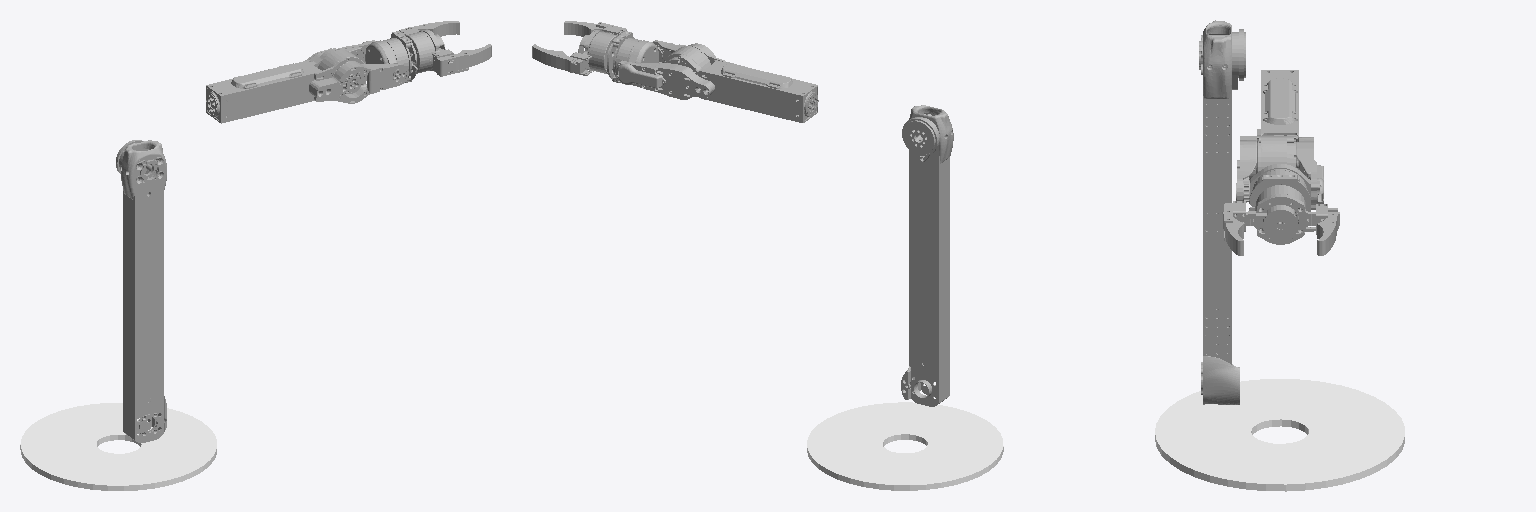
robot.urdf — arm_description:
<?xml version="1.0" encoding="utf-8"?>
<!-- This URDF was automatically created by SolidWorks to URDF Exporter! Originally created by [author] ([email redacted]) 
     Commit Version: 1.6.0-4-g7f85cfe  Build Version: 1.6.7995.38578
     For more information, please see http://wiki.ros.org/sw_urdf_exporter -->
<robot
  name="arm_description">
  <link
    name="base_link">
    <visual>
      <origin
        xyz="0 0 0"
        rpy="0 0 0" />
      <geometry>
        <mesh
          filename="package://arm_description/meshes/base_link.STL" />
      </geometry>
      <material
        name="">
        <color
          rgba="1 1 1 1" />
      </material>
    </visual>
    <collision>
      <origin
        xyz="0 0 0"
        rpy="0 0 0" />
      <geometry>
        <mesh
          filename="package://arm_description/meshes/base_link.STL" />
      </geometry>
    </collision>
  </link>
  <link
    name="link_1">
    <inertial>
      <origin
        xyz="0.0 0.0 0.05919"
        rpy="0 0 0" />
      <mass
        value="0.536" />
      <inertia
        ixx="0.3052091"
        ixy="-0.02572"
        ixz="-0.1003921"
        iyy="0.3640608"
        iyz="0.0255497"
        izz="0.1179245" />
    </inertial>
    <visual>
      <origin
        xyz="0 0 0"
        rpy="0 0 0" />
      <geometry>
        <mesh
          filename="package://arm_description/meshes/link_1.STL" />
      </geometry>
      <material
        name="">
        <color
          rgba="0.75294 0.75294 0.75294 1" />
      </material>
    </visual>
    <collision>
      <origin
        xyz="0 0 0"
        rpy="0 0 0" />
      <geometry>
        <mesh
          filename="package://arm_description/meshes/link_1.STL" />
      </geometry>
    </collision>
  </link>
  <joint
    name="joint_1"
    type="revolute">
    <origin
      xyz="0 0 0"
      rpy="0 0 0" />
    <parent
      link="base_link" />
    <child
      link="link_1" />
    <axis
      xyz="0 0 1" />
    <limit
      lower="-3.1"
      upper="3.1"
      effort="25"
      velocity="7.75" />
    <dynamics
      friction="0.3" />
  </joint>
  <link
    name="link_2">
    <inertial>
      <origin
        xyz="-0.0014451 0.24112 -0.020056"
        rpy="0 0 0" />
      <mass
        value="0.292" />
      <inertia
        ixx="0.037649"
        ixy="0"
        ixz="1.3289E-05"
        iyy="0.036645"
        iyz="0"
        izz="0.0011637" />
    </inertial>
    <visual>
      <origin
        xyz="0 0 0"
        rpy="0 0 0" />
      <geometry>
        <mesh
          filename="package://arm_description/meshes/link_2.STL" />
      </geometry>
      <material
        name="">
        <color
          rgba="0.75294 0.75294 0.75294 1" />
      </material>
    </visual>
    <collision>
      <origin
        xyz="0 0 0"
        rpy="0 0 0" />
      <geometry>
        <mesh
          filename="package://arm_description/meshes/link_2.STL" />
      </geometry>
    </collision>  
  </link>
  <joint
    name="joint_2"
    type="revolute">
    <origin
      xyz="0 -0.042 0.071"
      rpy="1.5708 0 -3.1416" />
    <parent
      link="link_1" />
    <child
      link="link_2" />
    <axis
      xyz="0 0 -1" />
    <limit
      lower="-1.047"
      upper="1.396"
      effort="63"
      velocity="4.71" />
    <dynamics
      friction="0.2" />
  </joint>
  <link
    name="link_3">
    <inertial>
      <origin
        xyz="0.01602 0.044001 0.029936"
        rpy="0 0 0" />
      <mass
        value="1.321" />
      <inertia
        ixx="0.27702"
        ixy="0"
        ixz="0.02648"
        iyy="0.28195"
        iyz="0"
        izz="0.005747" />
    </inertial>
    <visual>
      <origin
        xyz="0 0 0"
        rpy="0 0 0" />
      <geometry>
        <mesh
          filename="package://arm_description/meshes/link_3.STL" />
      </geometry>
      <material
        name="">
        <color
          rgba="0.75294 0.75294 0.75294 1" />
      </material>
    </visual>
    <collision>
      <origin
        xyz="0 0 0"
        rpy="0 0 0" />
      <geometry>
        <mesh
          filename="package://arm_description/meshes/link_3.STL" />
      </geometry>
    </collision>
  </link>
  <joint
    name="joint_3"
    type="revolute">
    <origin
      xyz="0 0.37 0.007"
      rpy="0 0 1.5708" />
    <parent
      link="link_2" />
    <child
      link="link_3" />
    <axis
      xyz="0 0 -1" />
    <limit
      lower="-1.36217"
      upper="0.5335"
      effort="35"
      velocity="4.71" />
    <dynamics
      friction="0.2" />
  </joint>
  <link
    name="link_4">
    <inertial>
      <origin
        xyz="0.00010602 0.0016431 0.15301"
        rpy="0 0 0" />
      <mass
        value="0.71" />
      <inertia
        ixx="0.157756532"
        ixy="0"
        ixz="0.101150375"
        iyy="0.22536253"
        iyz="0"
        izz="0.06816" />
    </inertial>
    <visual>
      <origin
        xyz="0 0 0"
        rpy="0 0 0" />
      <geometry>
        <mesh
          filename="package://arm_description/meshes/link_4.STL" />
      </geometry>
      <material
        name="">
        <color
          rgba="0.75294 0.75294 0.75294 1" />
      </material>
    </visual>
    <collision>
      <origin
        xyz="0 0 0"
        rpy="0 0 0" />
      <geometry>
        <mesh
          filename="package://arm_description/meshes/link_4.STL" />
      </geometry>
    </collision>
  </link>
  <joint
    name="joint_4"
    type="revolute">
    <origin
      xyz="0.03 0.1419 0.035"
      rpy="-1.5708 0 0" />
    <parent
      link="link_3" />
    <child
      link="link_4" />
    <axis
      xyz="0 0 1" />
    <limit
      lower="-3.14"
      upper="3.14"
      effort="18"
      velocity="7.54" />
    <dynamics
      friction="0.2" />
  </joint>
  <link
    name="link_5">
    <inertial>
      <origin
        xyz="5.5375E-07 0.0083726 -0.0014715"
        rpy="0 0 0" />
      <mass
        value="0.324" />
      <inertia
        ixx="0.072026932"
        ixy="0"
        ixz="0.062596148"
        iyy="0.126477469"
        iyz="0"
        izz="0.05466" />
    </inertial>
    <visual>
      <origin
        xyz="0 0 0"
        rpy="0 0 0" />
      <geometry>
        <mesh
          filename="package://arm_description/meshes/link_5.STL" />
      </geometry>
      <material
        name="">
        <color
          rgba="0.75294 0.75294 0.75294 1" />
      </material>
    </visual>
    <collision>
      <origin
        xyz="0 0 0"
        rpy="0 0 0" />
      <geometry>
        <mesh
          filename="package://arm_description/meshes/link_5.STL" />
      </geometry>
    </collision>
  </link>
  <joint
    name="joint_5"
    type="revolute">
    <origin
      xyz="0 0 0.2591"
      rpy="1.5708 0 0" />
    <parent
      link="link_4" />
    <child
      link="link_5" />
    <axis
      xyz="0 0 -1" />
    <limit
      lower="-1.74"
      upper="1.74"
      effort="6"
      velocity="24.61" />
    <dynamics
      friction="0.2" />
  </joint>
  <link
    name="link_6">
    <inertial>
      <origin
        xyz="0.0021385 -0.0015806 0.054172"
        rpy="0 0 0" />
      <mass
        value="0.14108" />
      <inertia
        ixx="0.031464282"
        ixy="0"
        ixz="0.030962713"
        iyy="0.06203783"
        iyz="0"
        izz="0.030828" />
    </inertial>
    <visual>
      <origin
        xyz="0 0 0"
        rpy="0 0 0" />
      <geometry>
        <mesh
          filename="package://arm_description/meshes/link_6.STL" />
      </geometry>
      <material
        name="">
        <color
          rgba="0.75294 0.75294 0.75294 1" />
      </material>
    </visual>
    <collision>
      <origin
        xyz="0 0 0"
        rpy="0 0 0" />
      <geometry>
        <mesh
          filename="package://arm_description/meshes/link_6.STL" />
      </geometry>
    </collision>
  </link>
  <joint
    name="joint_6"
    type="revolute">
    <origin
      xyz="0.0 0.119 0"
      rpy="1.5708 0 0" />
    <parent
      link="link_5" />
    <child
      link="link_6" />
    <axis
      xyz="0 0 1" />
    <limit
      lower="-3.14"
      upper="3.14"
      effort="3"
      velocity="10" />
    <dynamics
      friction="0.2" />
  </joint>
</robot>

--- What the picture shows (computed from the rendered views, not written in the file) ---
The picture shows the robot from 3 angles, left to right: view 1: azimuth 30°, elevation 25°; view 2: azimuth 150°, elevation 25°; view 3: azimuth 270°, elevation 25°; orthographic projection.
Model arm_description with 7 links and 6 joints (6 revolute), rooted at base_link, posed every joint at zero.
Links seen in each view (by area): view 1: link_2, base_link, link_4, link_6, link_5; view 2: base_link, link_2, link_4, link_6, link_5; view 3: base_link, link_2, link_4, link_6, link_5.
Boxes of the visible links, x1=… form: link_2: x1=116, y1=140, x2=166, y2=442; base_link: x1=20, y1=403, x2=216, y2=490; link_4: x1=206, y1=40, x2=408, y2=123; link_6: x1=390, y1=21, x2=491, y2=82; link_5: x1=364, y1=38, x2=408, y2=82; base_link: x1=807, y1=402, x2=1003, y2=490; link_2: x1=901, y1=105, x2=953, y2=406; link_4: x1=617, y1=40, x2=818, y2=122; link_6: x1=532, y1=21, x2=634, y2=82; link_5: x1=615, y1=38, x2=662, y2=77; base_link: x1=1155, y1=379, x2=1404, y2=491; link_2: x1=1199, y1=20, x2=1245, y2=404; link_4: x1=1237, y1=70, x2=1323, y2=209; link_6: x1=1222, y1=175, x2=1339, y2=255; link_5: x1=1236, y1=164, x2=1310, y2=205.
Size in the robot's own frame: 0.6729 by 0.2597 by 0.501 metres.
Meshes: 7 distinct files referenced, 5 mesh visuals loaded (5 binary STL); not drawn: 2 (reference not matched to a file when rendering).